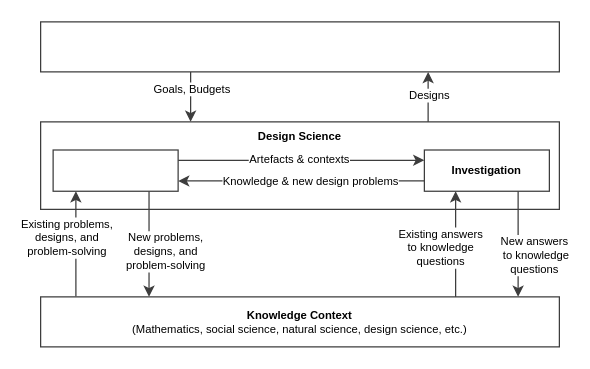
Image size: 590x369. Some labels were removed from this diagram. The centre of each missing label's shape, as x and y in pixels:
Design: point (115, 170)
Social Context (stakeholders): point (299, 46)
